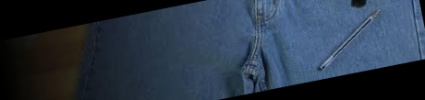ink: (348, 0, 372, 10)
